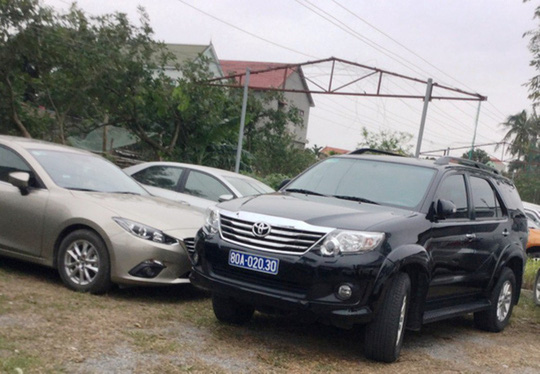plate: (226, 247, 279, 279)
